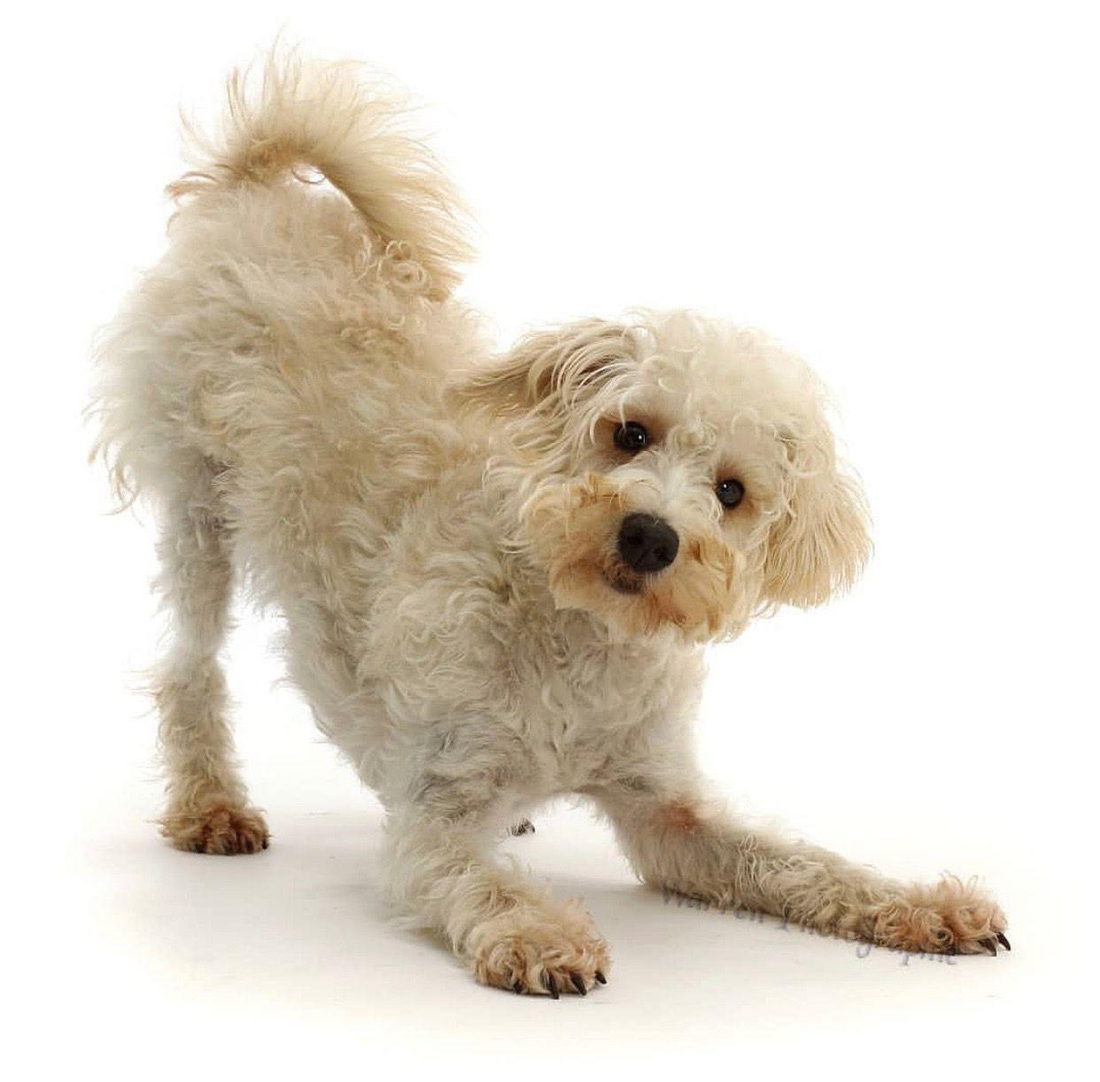adult_dog: (83, 24, 1015, 1000)
